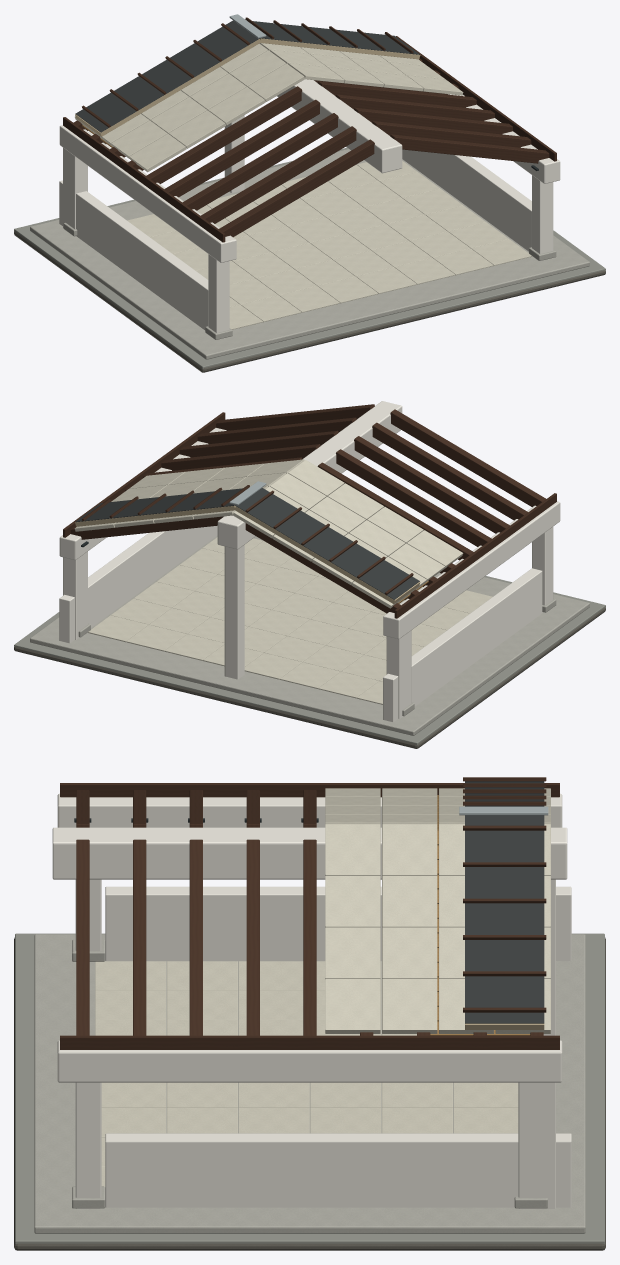
The model's file is tetto-BtQvrsHL.glb.
The picture shows the model from 3 angles, top to bottom: view 1: azimuth 30°, elevation 25°; view 2: azimuth 150°, elevation 25°; view 3: azimuth 270°, elevation 25°; orthographic projection. The views are drawn at different scales.
Parts seen in each view (by area): view 1: phase_finish__limestone, phase_structure__plaster, phase_structure__darkwood, phase_foundation__concrete, phase_envelope__limestone, phase_finish__membrane, phase_foundation__gravel, phase_finish__darkwood, phase_site__soil, phase_finish__insulation, phase_finish__concrete; view 2: phase_structure__plaster, phase_finish__limestone, phase_structure__darkwood, phase_envelope__limestone, phase_foundation__concrete, phase_finish__membrane, phase_foundation__gravel, phase_finish__darkwood, phase_site__soil, phase_finish__insulation; view 3: phase_structure__plaster, phase_finish__limestone, phase_envelope__limestone, phase_foundation__concrete, phase_foundation__gravel, phase_finish__darkwood, phase_structure__darkwood, phase_finish__membrane, phase_site__soil, phase_finish__concrete, phase_details__metal, phase_envelope__oak.
Boxes of the visible parts, <box> form: phase_finish__limestone: <box>127,161,531,329</box>; phase_structure__plaster: <box>59,79,560,339</box>; phase_structure__darkwood: <box>73,58,549,237</box>; phase_foundation__concrete: <box>30,149,589,359</box>; phase_envelope__limestone: <box>75,43,463,172</box>; phase_finish__membrane: <box>75,20,419,132</box>; phase_foundation__gravel: <box>14,147,605,368</box>; phase_finish__darkwood: <box>63,17,556,242</box>; phase_site__soil: <box>14,231,605,372</box>; phase_finish__insulation: <box>75,38,420,136</box>; phase_finish__concrete: <box>63,222,556,339</box>; phase_structure__plaster: <box>59,401,560,722</box>; phase_finish__limestone: <box>88,537,492,704</box>; phase_structure__darkwood: <box>70,404,545,613</box>; phase_envelope__limestone: <box>74,459,463,608</box>; phase_foundation__concrete: <box>30,535,589,735</box>; phase_finish__membrane: <box>75,488,419,599</box>; phase_foundation__gravel: <box>14,576,605,745</box>; phase_finish__darkwood: <box>63,412,556,618</box>; phase_site__soil: <box>14,607,605,748</box>; phase_finish__insulation: <box>75,505,420,603</box>; phase_structure__plaster: <box>52,793,571,1208</box>; phase_finish__limestone: <box>95,961,518,1186</box>; phase_envelope__limestone: <box>325,788,550,1033</box>; phase_foundation__concrete: <box>34,934,585,1233</box>; phase_foundation__gravel: <box>15,933,604,1244</box>; phase_finish__darkwood: <box>60,777,559,1049</box>; phase_structure__darkwood: <box>76,790,543,1035</box>; phase_finish__membrane: <box>465,781,544,1023</box>; phase_site__soil: <box>14,937,605,1250</box>; phase_finish__concrete: <box>72,939,547,1208</box>; phase_details__metal: <box>459,806,548,815</box>; phase_envelope__oak: <box>430,795,530,1035</box>.
Bounding box in the file's own units: 9 × 3.92 × 7.3.
11 materials, 5 textured.
